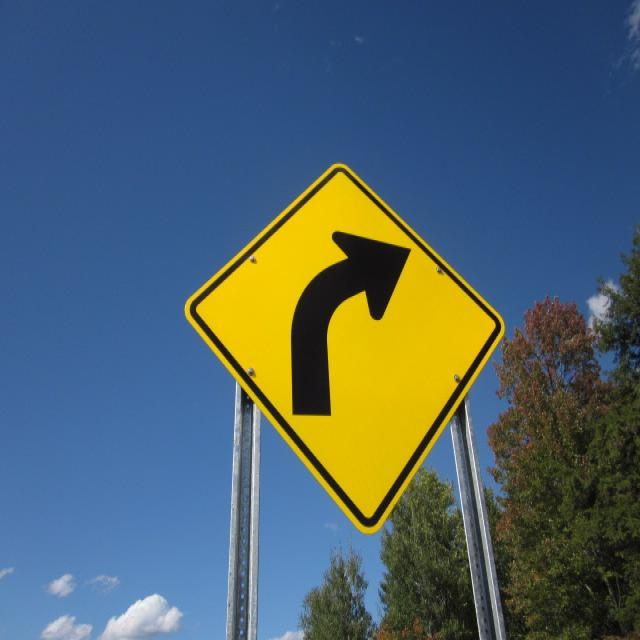warning: (186, 165, 504, 532)
